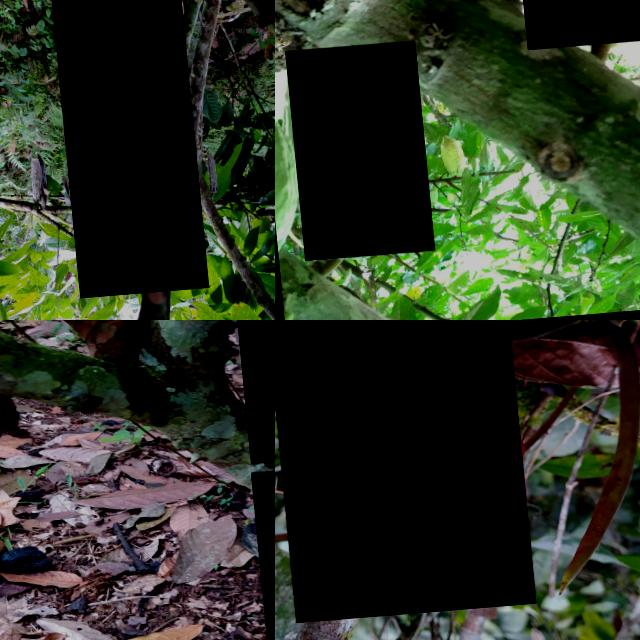Fitoftora: (41, 0, 198, 303), (222, 320, 275, 469)
Monilia: (275, 320, 526, 626)
Sana: (278, 44, 424, 261), (422, 138, 459, 182)
